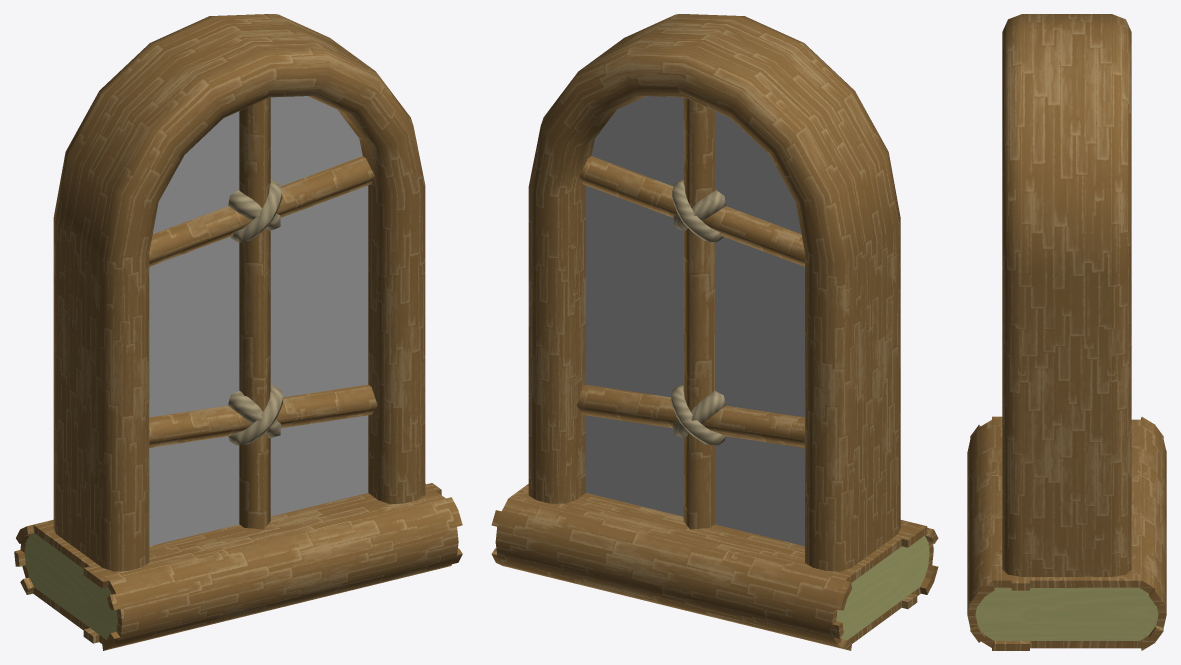
File: Mesh_Shop_Natural_Window_2x.fbx
3 views of the same model, side by side, from view 1: azimuth 30°, elevation 25°; view 2: azimuth 150°, elevation 25°; view 3: azimuth 270°, elevation 25° (orthographic).
Visible parts, largest first — view 1: Mesh_Shop_Natural_Window, Mesh_Shop_Natural_Window_Trim; view 2: Mesh_Shop_Natural_Window, Mesh_Shop_Natural_Window_Trim; view 3: Mesh_Shop_Natural_Window.
Boxes of the visible parts, bbox=[...] form: Mesh_Shop_Natural_Window: bbox=[14, 14, 462, 650]; Mesh_Shop_Natural_Window_Trim: bbox=[149, 96, 368, 546]; Mesh_Shop_Natural_Window: bbox=[491, 14, 938, 650]; Mesh_Shop_Natural_Window_Trim: bbox=[586, 96, 804, 546]; Mesh_Shop_Natural_Window: bbox=[967, 14, 1166, 650].
Size of the model in its own units: 198 by 297 by 100.
